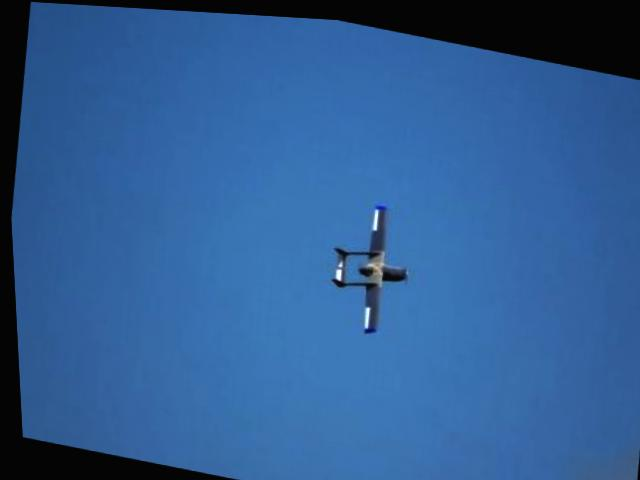uav: (318, 190, 418, 336)
